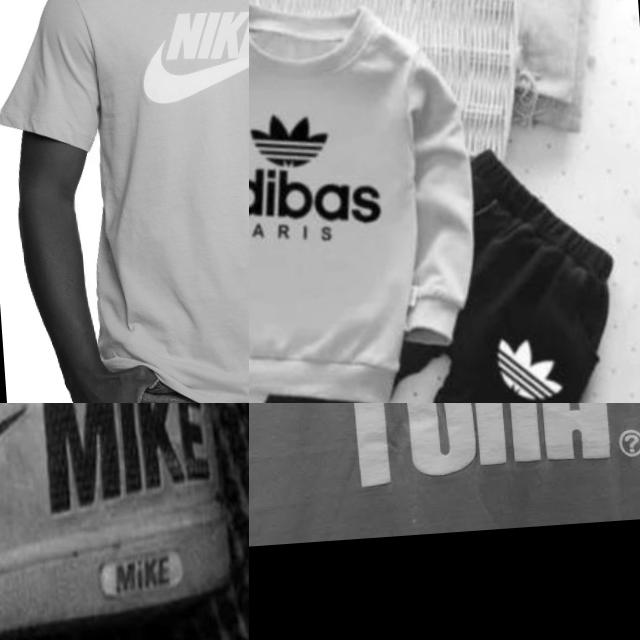ADIDAS_fake: (249, 89, 387, 263), (249, 150, 394, 250), (484, 321, 575, 403), (249, 96, 335, 180)
NIKE_original: (108, 0, 249, 133)
PUMA_fake: (280, 403, 640, 521)
